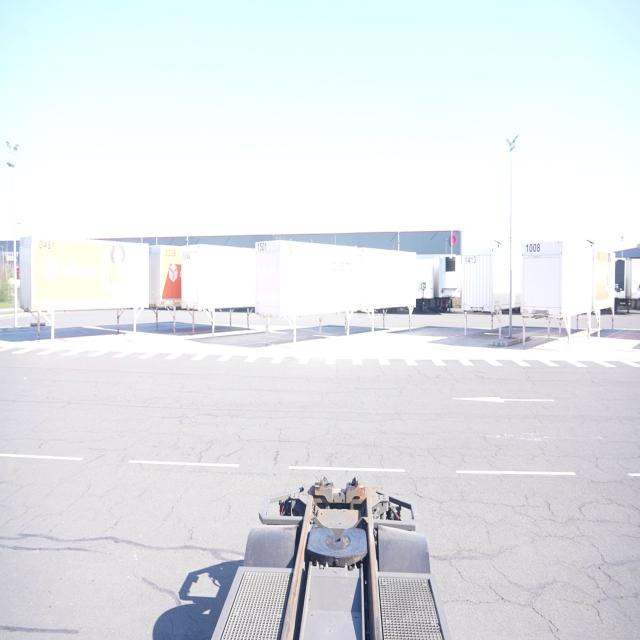Code: (522, 238, 542, 256), (36, 234, 54, 253), (463, 253, 479, 272), (254, 239, 268, 254)
